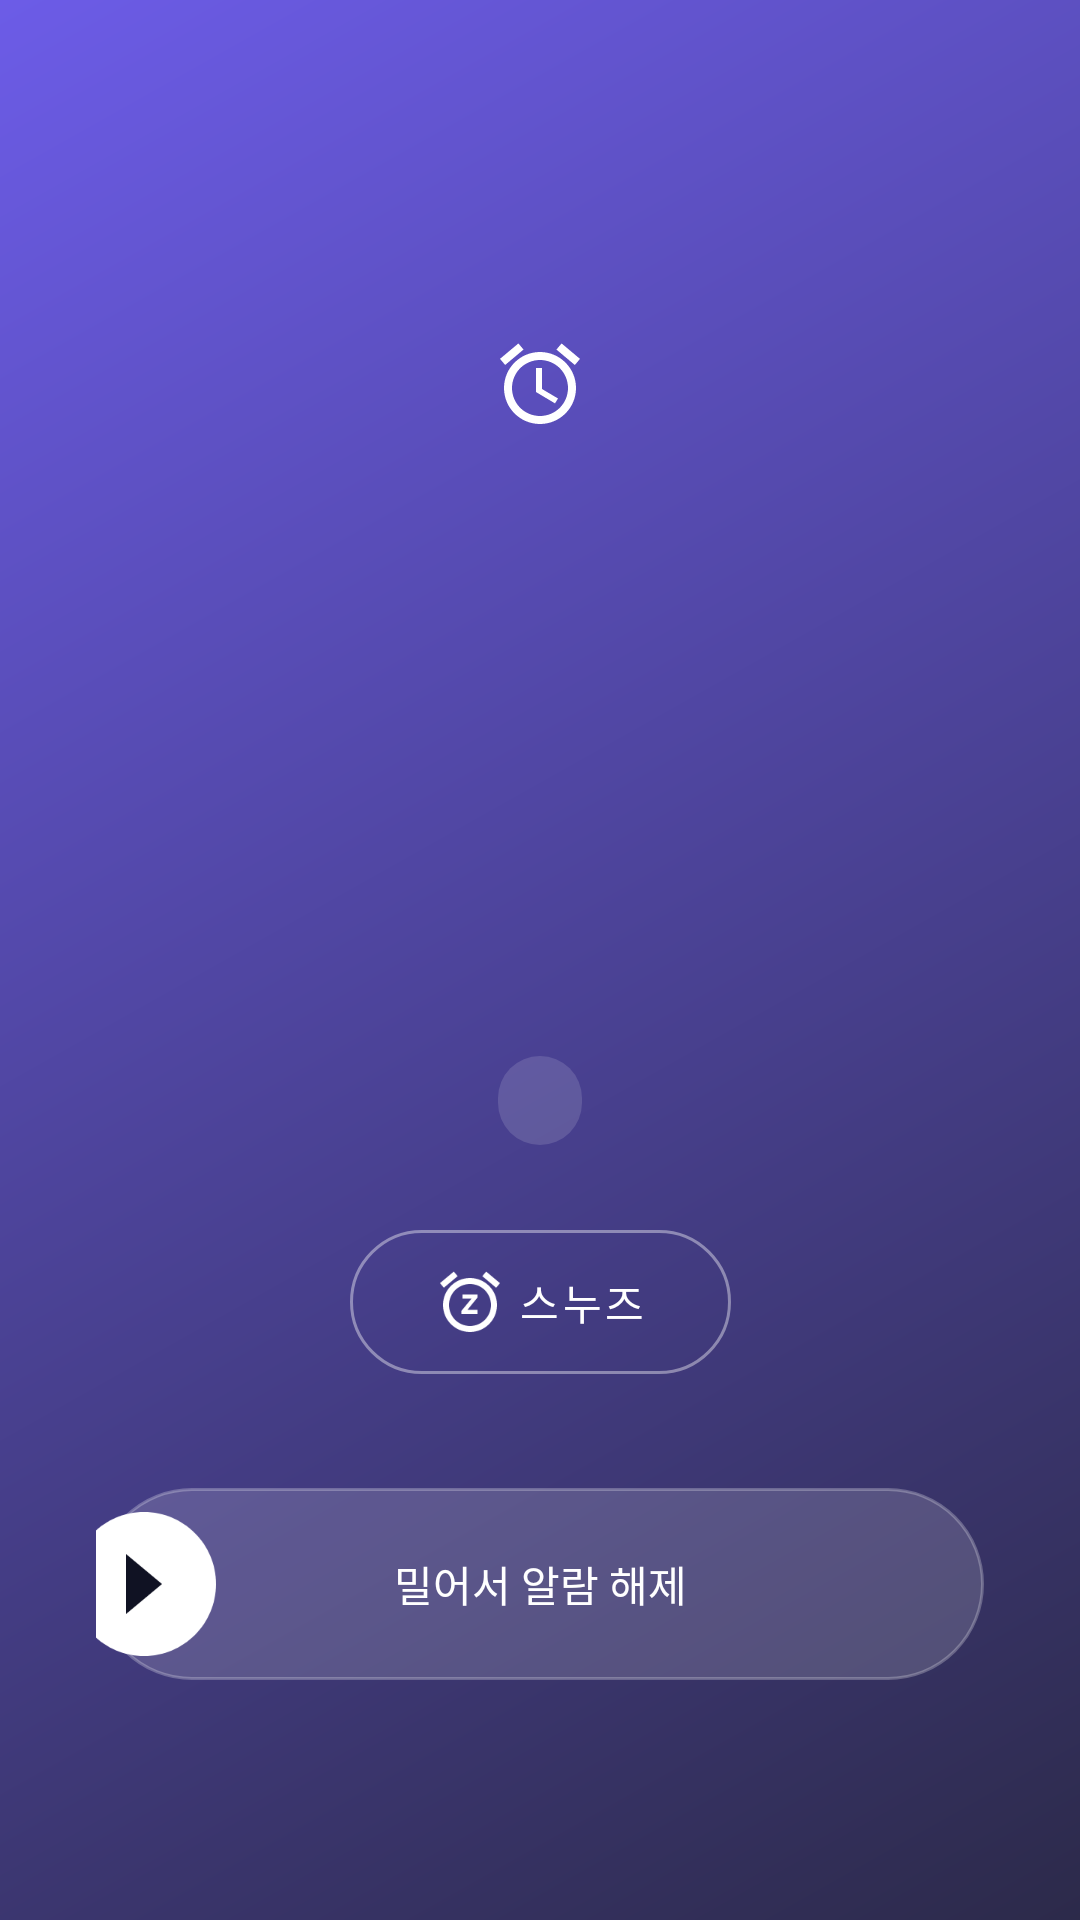

Where icons sit on this 1080 x 1920 app screen, as {"left": x1, "top": y1, "right": x2, "bottom": y2}:
alarm: {"left": 500, "top": 343, "right": 580, "bottom": 424}
